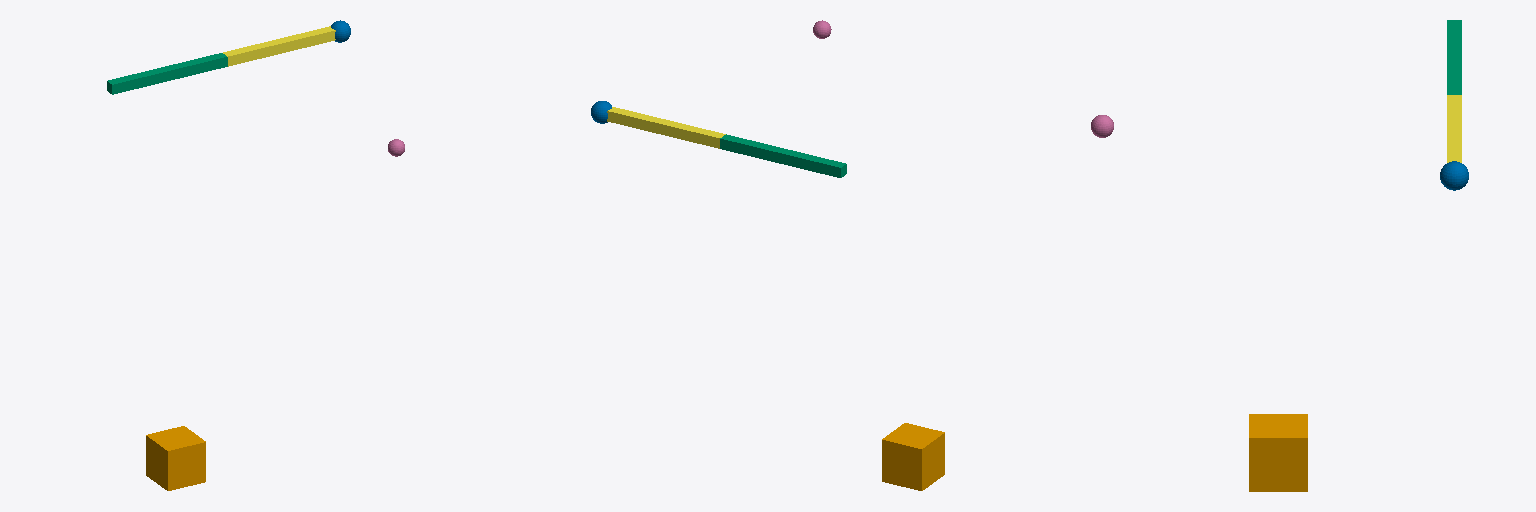
URDF robot description (polyline_suggestion_robot):
<?xml version="1.0"?>
<robot name="polyline_suggestion_robot">
  <link name="base_link"><visual><geometry><box size="0.1 0.1 0.1"/></geometry></visual><collision><geometry><box size="0.1 0.1 0.1"/></geometry></collision></link>
  <link name="left_L1"/>
  <joint name="left_J1" type="prismatic"><parent link="base_link"/><child link="left_L1"/><origin xyz="0 0.3 0.8"/><axis xyz="0 0 1"/><limit lower="-0.2" upper="0.2" effort="10" velocity="0.1"/></joint>
  <link name="left_L2"><visual><origin xyz="0.15 0 0"/><geometry><box size="0.3 0.025 0.025"/></geometry></visual><collision><origin xyz="0.15 0 0"/><geometry><box size="0.3 0.025 0.025"/></geometry></collision></link>
  <joint name="left_J2" type="revolute"><parent link="left_L1"/><child link="left_L2"/><axis xyz="0 0 1"/><limit lower="-3.14" upper="3.14" effort="10" velocity="1"/></joint>
  <link name="left_L3"><visual><origin xyz="0.15 0 0"/><geometry><box size="0.3 0.025 0.025"/></geometry></visual><collision><origin xyz="0.15 0 0"/><geometry><box size="0.3 0.025 0.025"/></geometry></collision></link>
  <joint name="left_J3" type="revolute"><parent link="left_L2"/><child link="left_L3"/><origin xyz="0.3 0 0"/><axis xyz="0 0 1"/><limit lower="-3.14" upper="3.14" effort="10" velocity="1"/></joint>
  <link name="left_L4"><visual><geometry><sphere radius="0.025"/></geometry></visual><collision><geometry><sphere radius="0.025"/></geometry></collision></link>
  <joint name="left_J4" type="revolute"><parent link="left_L3"/><child link="left_L4"/><origin xyz="0.3 0 0"/><axis xyz="0 0 1"/><limit lower="-3.14" upper="3.14" effort="10" velocity="1"/></joint>
  <link name="tool_left"/>
  <joint name="left_tool_fixed" type="fixed"><parent link="left_L4"/><child link="tool_left"/><origin xyz="0 0 -0.1"/></joint>
  <link name="right_L1"><visual><geometry><sphere radius="0.02"/></geometry></visual><collision><geometry><sphere radius="0.02"/></geometry></collision></link>
  <joint name="right_J1" type="prismatic"><parent link="base_link"/><child link="right_L1"/><origin xyz="0.4 -0.3 0.8"/><axis xyz="1 0 0"/><limit lower="-0.12" upper="0.12" effort="10" velocity="0.1"/></joint>
  <link name="tool_right"/>
  <joint name="right_tool_fixed" type="fixed"><parent link="right_L1"/><child link="tool_right"/><origin xyz="0 0 -0.1"/></joint>
</robot>

--- Facts derived from the render (not from the file) ---
The picture shows the robot from 3 angles, left to right: view 1: azimuth 30°, elevation 25°; view 2: azimuth 150°, elevation 25°; view 3: azimuth 270°, elevation 25°; orthographic projection.
Robot: polyline_suggestion_robot — 8 links, 7 joints (3 revolute, 2 prismatic, 2 fixed); root link base_link; default pose: all joints at 0.
Visible links, largest first — view 1: base_link, left_L2, left_L3; view 2: base_link, left_L2, left_L3; view 3: base_link, left_L2, left_L3, left_L4.
Boxes of the visible links, x1,y1,x2,y2 form: base_link: (146,426,205,490); left_L2: (107,53,227,94); left_L3: (223,26,335,66); base_link: (882,423,944,490); left_L2: (720,134,846,177); left_L3: (607,107,725,148); base_link: (1249,414,1307,491); left_L2: (1447,20,1461,94); left_L3: (1447,95,1461,162); left_L4: (1440,161,1468,190).
Size in the robot's own frame: 0.675 by 0.645 by 0.875 metres.
Geometry: primitives only (box / cylinder / sphere), no mesh files.
